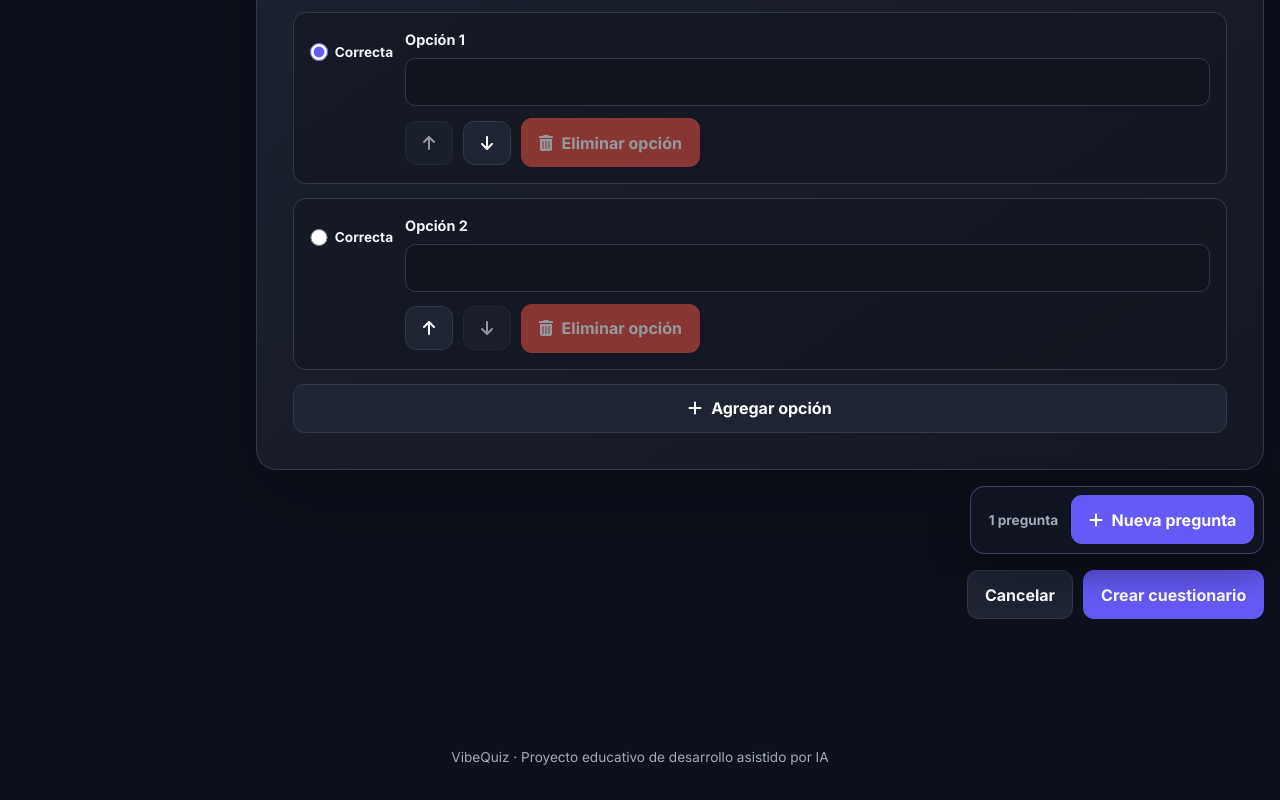
Scenario: administrative quiz creation › validates the complete aggregate before contacting the API
(page scrolled)
Click the button "Crear cuestionario" at (1174, 595), box left=1083, top=570, right=1264, bottom=619
(page scrolled)
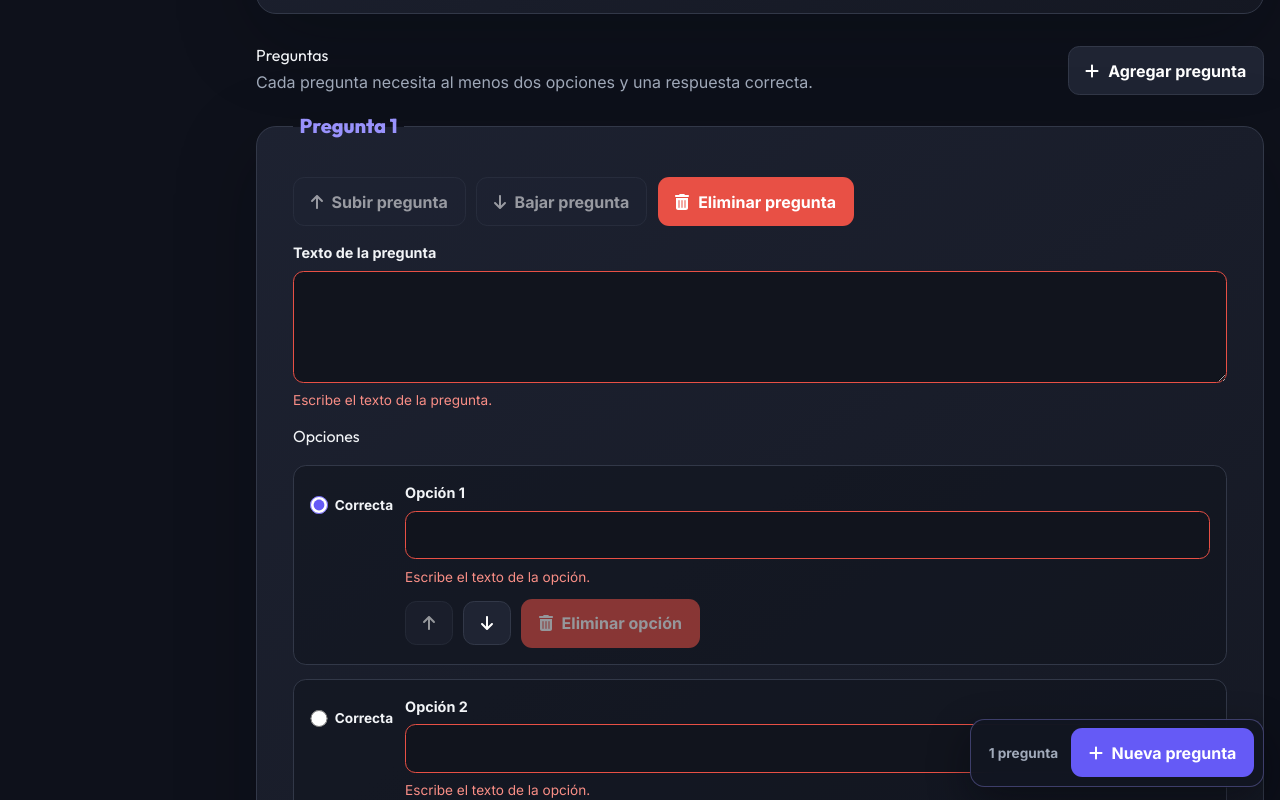
Now the text "Escribe el texto de la pregunta." is shown, box left=293, top=392, right=492, bottom=408
Now the text "Escribe el texto de la opción." is shown 2 times, box left=405, top=568, right=590, bottom=584; left=405, top=782, right=590, bottom=798
